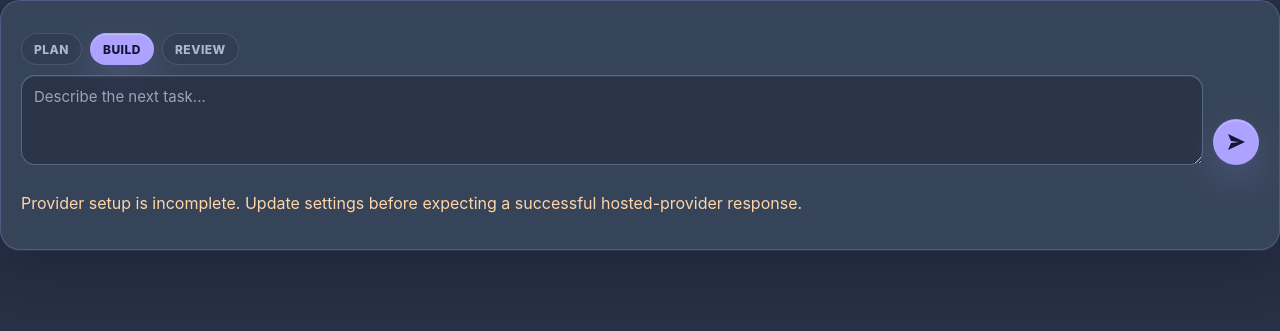
Test: ComposerCard › shows a validation error for blank prompts and does not start a run
The width and height of the screenshot is (1280, 331).
Click the button named "Send prompt" at (1236, 142), box [1213, 118, 1259, 164]
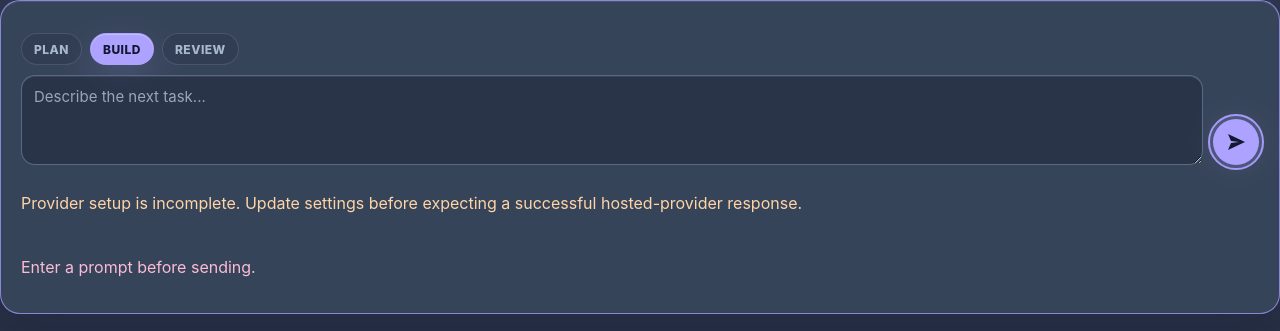
Expected: the text "Provider setup is incomplete. Update settings before expecting a successful hosted-provider response." is shown, [21, 192, 802, 212]
Result: the text "Enter a prompt before sending." is shown at [21, 256, 256, 276]
